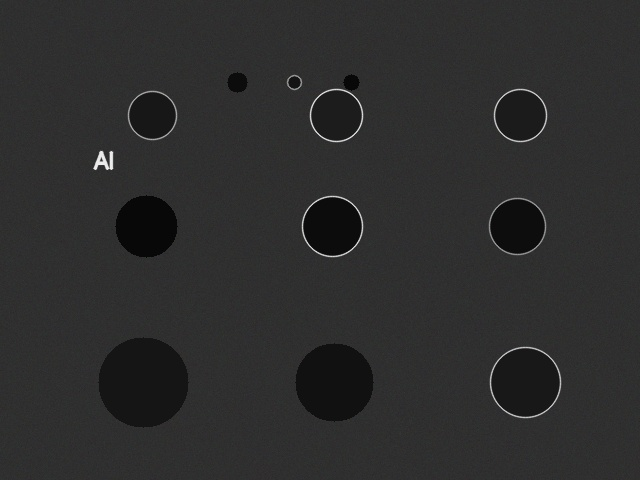hole: (98, 337, 188, 427), (295, 343, 373, 421), (490, 347, 560, 417), (115, 195, 177, 257), (302, 196, 362, 256), (489, 198, 545, 254), (310, 89, 362, 141), (494, 89, 546, 141), (128, 91, 176, 139), (227, 72, 247, 92), (343, 74, 359, 90), (287, 75, 301, 89)
